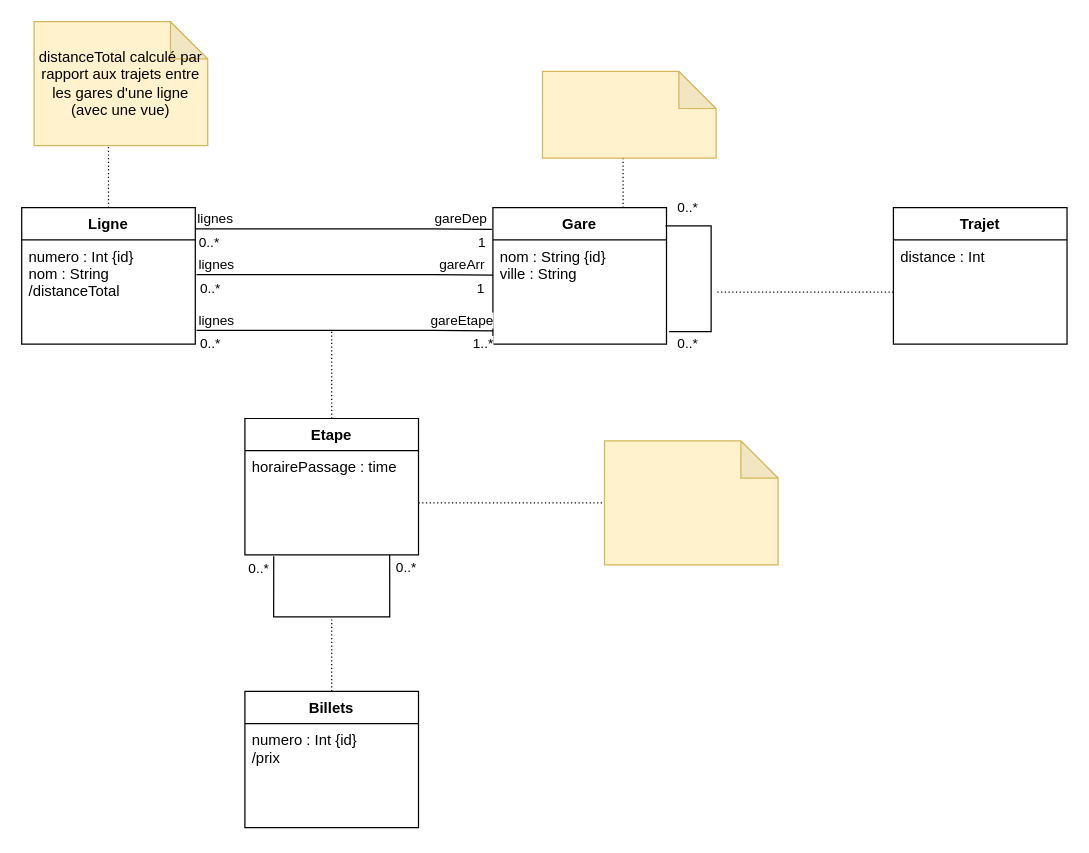
Some shapes in this 1089 by 853 pixel diagram are drawn without their labels. The centre of each missing label's shape, as x and y in pixels:
"gareArr != gareDep" belongs at pixel 628 114.
"prix calculé par rapport à la distance du trajets effectué (avec une vue)" belongs at pixel 690 502.
